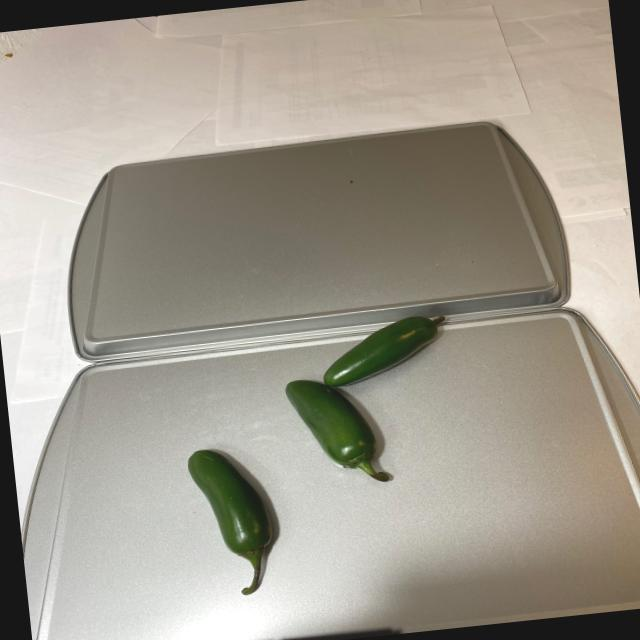chilli: (168, 308, 480, 608)
